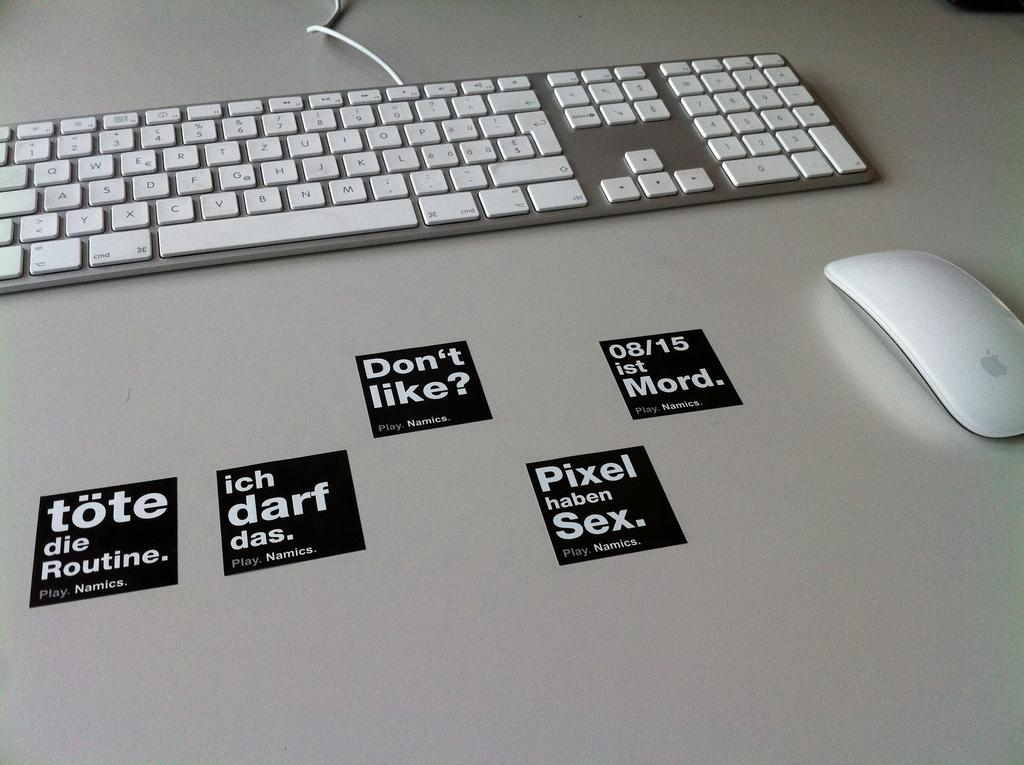Computer-mouse: (822, 245, 1023, 443)
